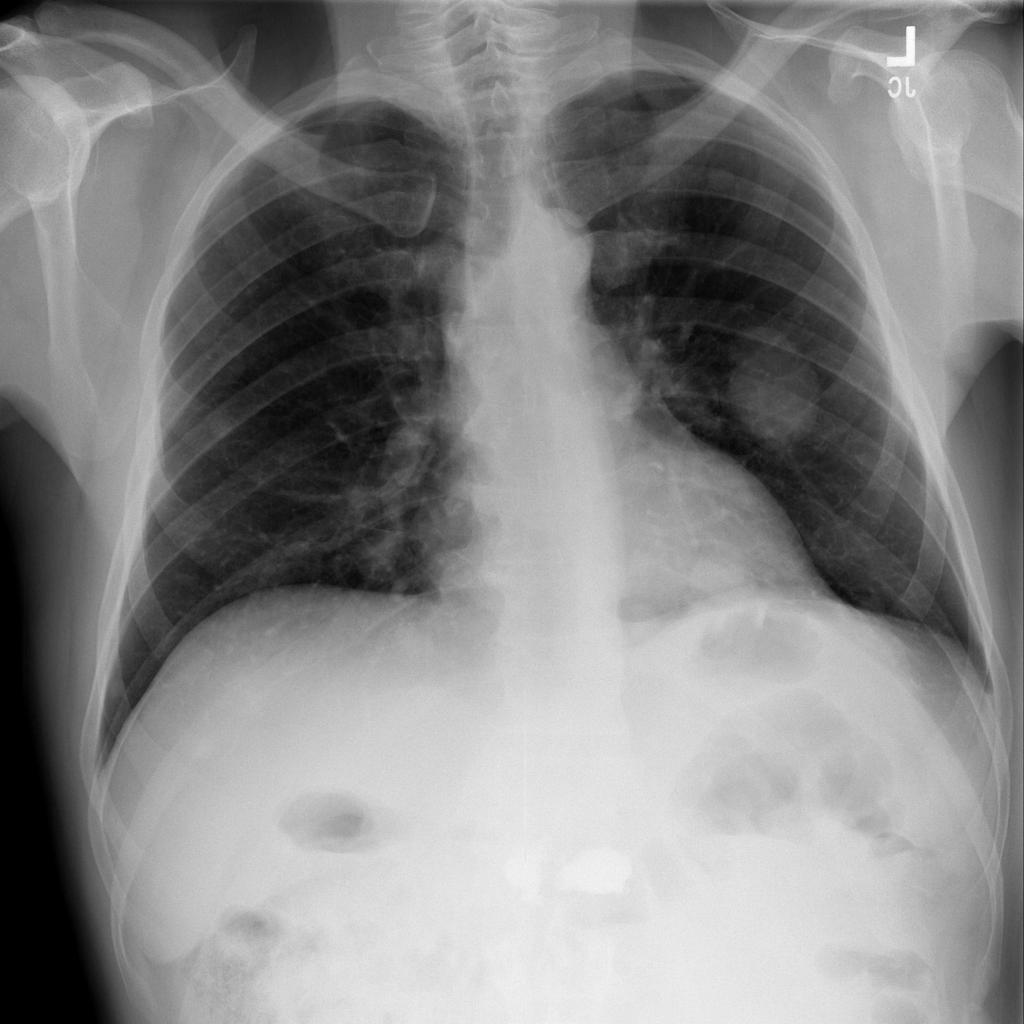nodule: (705, 312, 841, 467), (676, 541, 763, 612), (186, 395, 262, 460), (697, 152, 752, 201)
